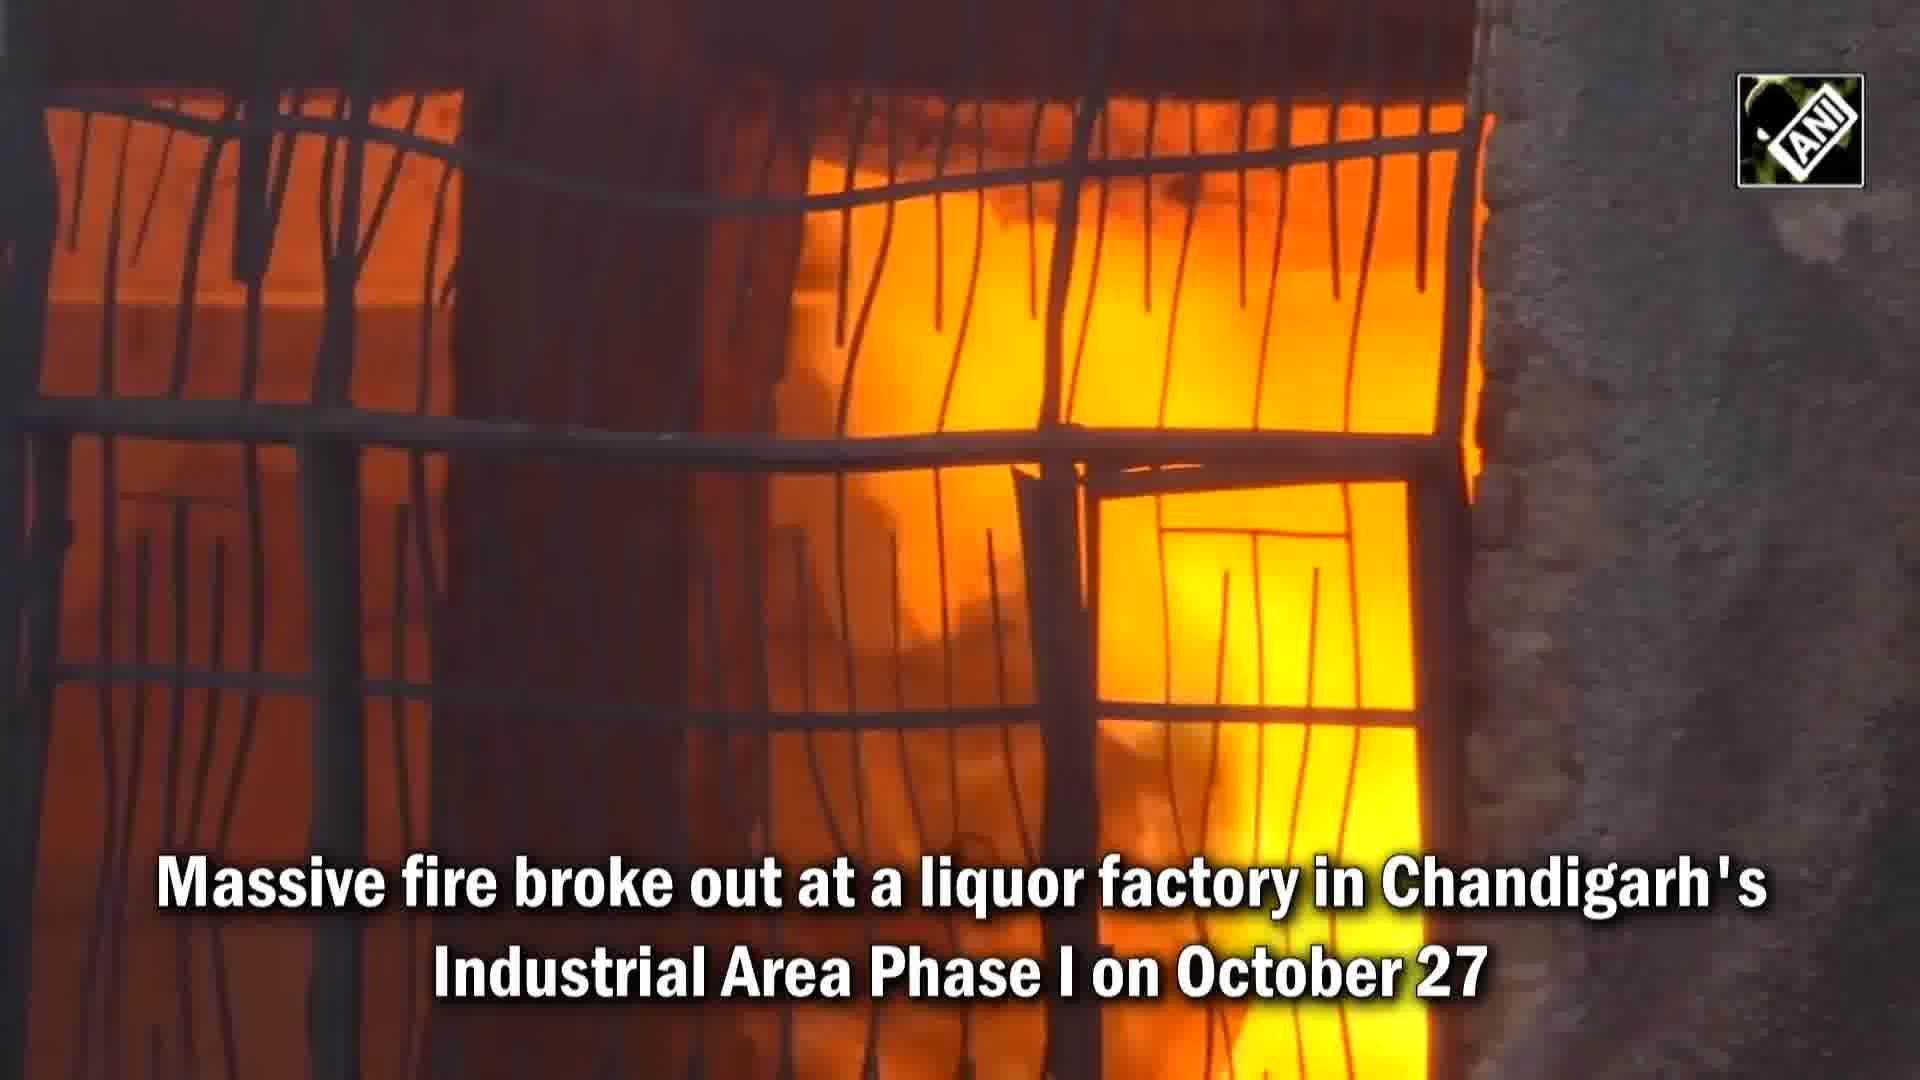fire: (820, 218, 1462, 992)
